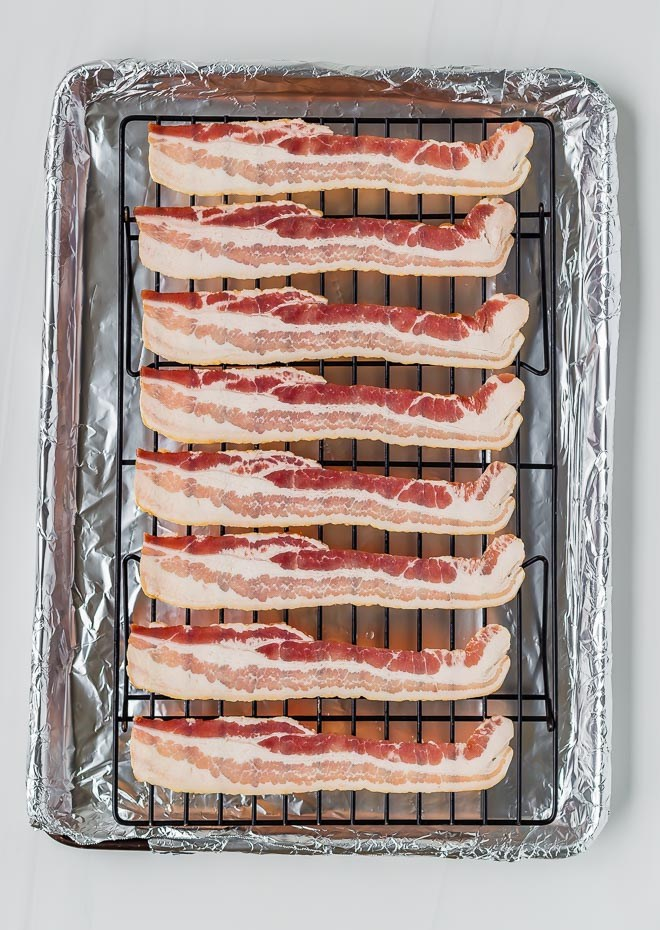bacon: (99, 281, 523, 827), (141, 115, 560, 213), (118, 196, 543, 292)
